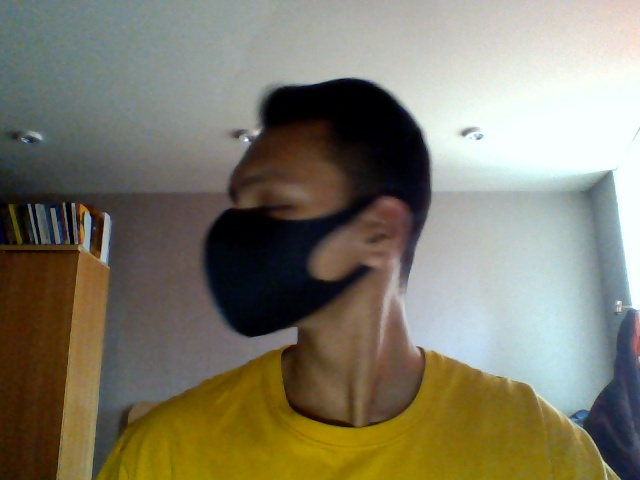mask: (202, 207, 330, 336)
